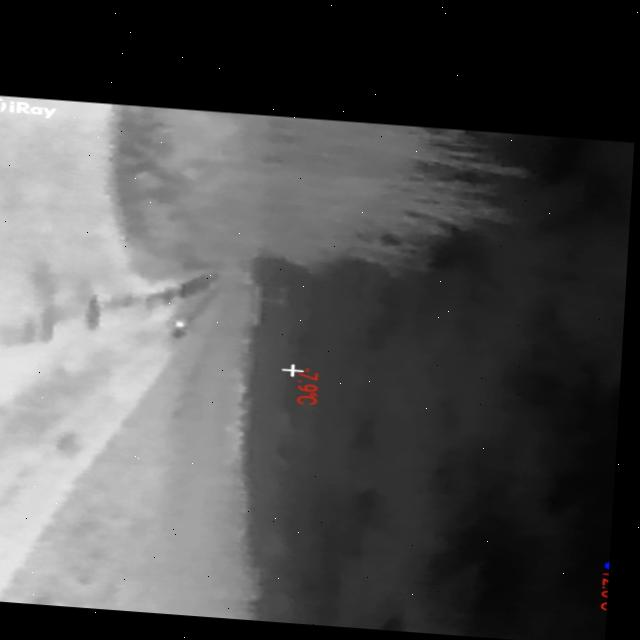drone: (173, 316, 190, 325)
